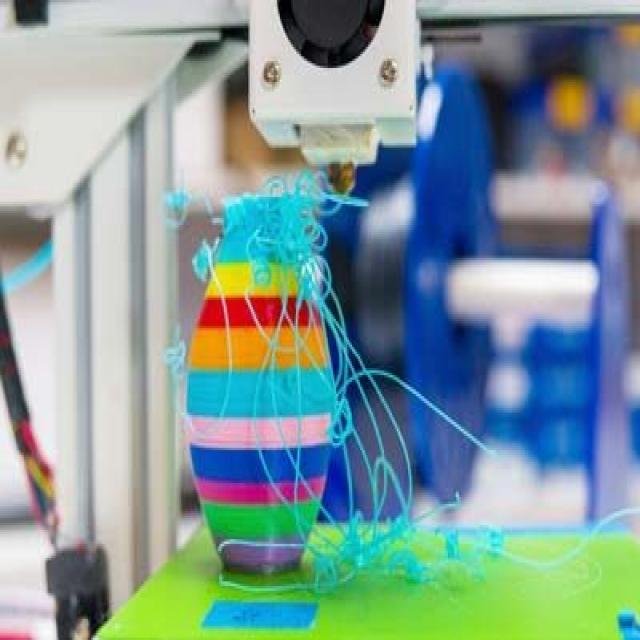Spaghetti: (255, 172, 522, 589), (158, 184, 214, 376)
